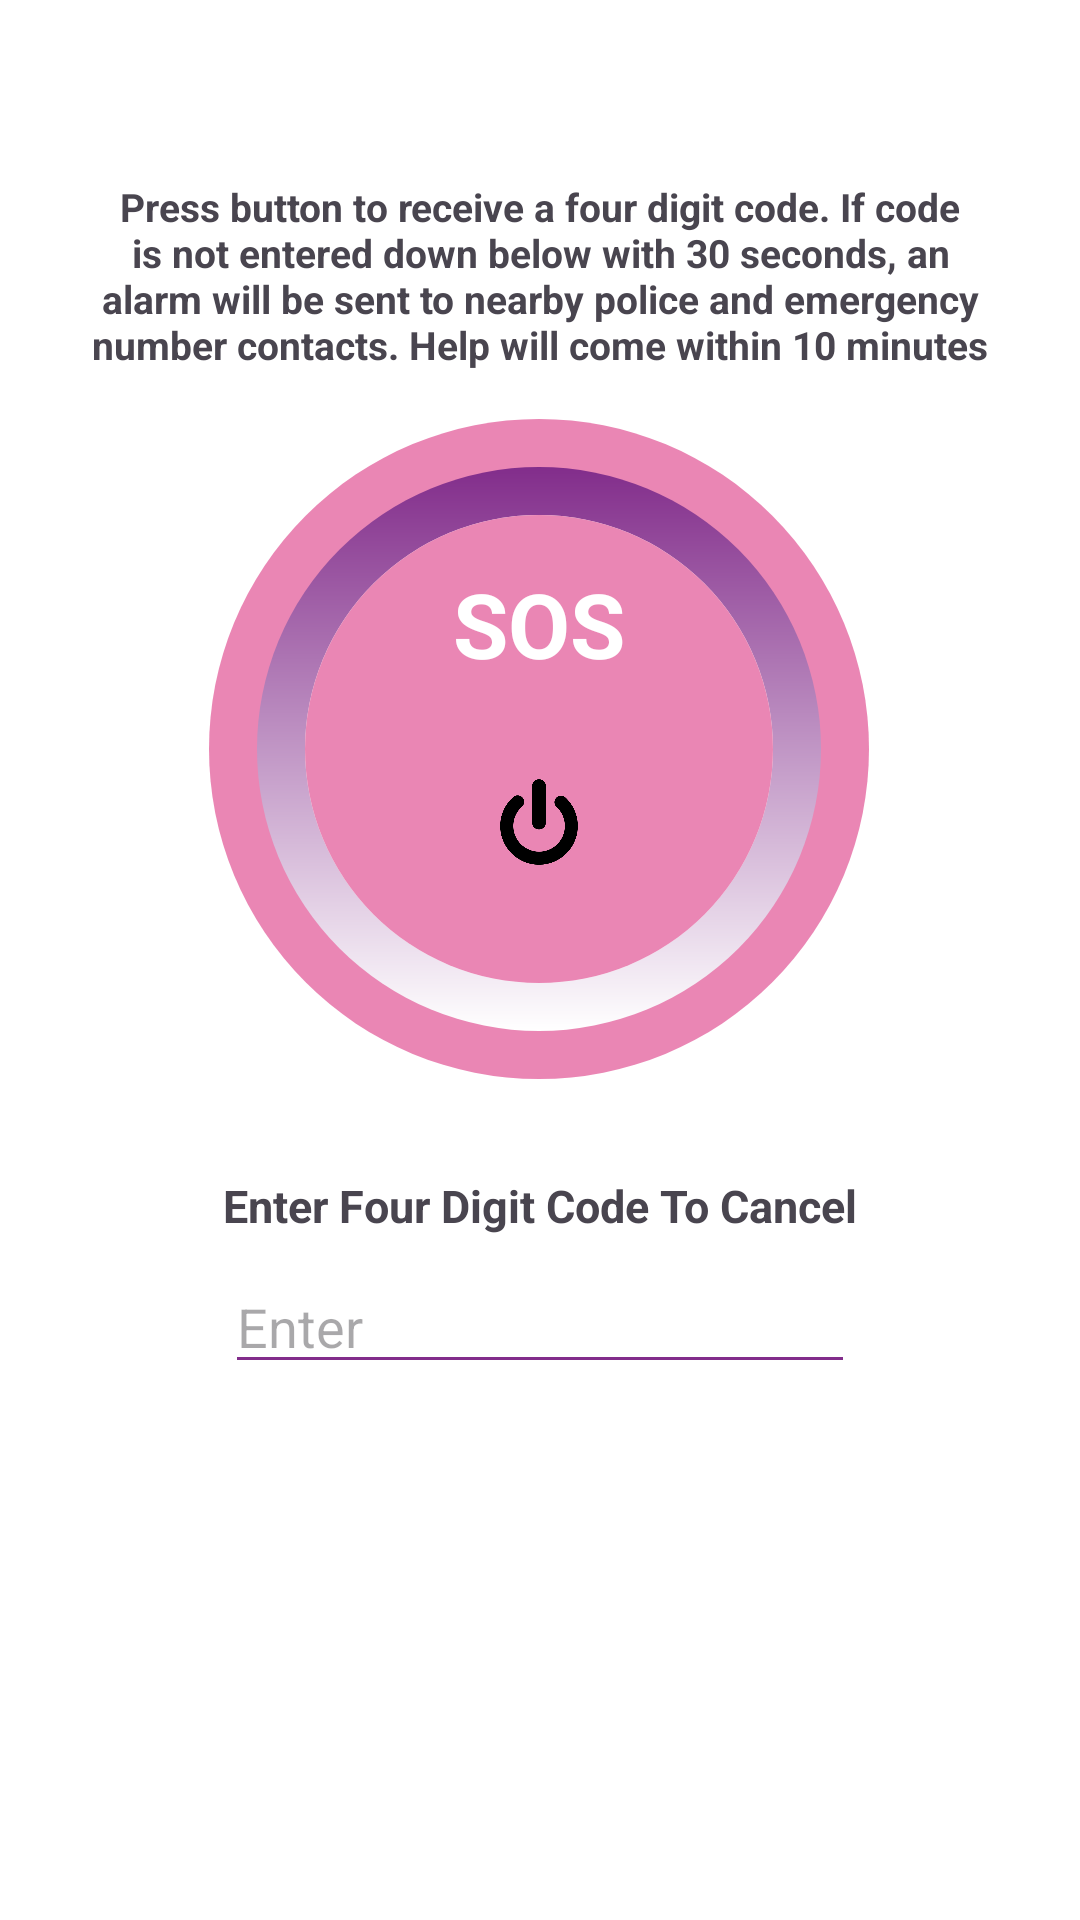

Icons on this 1080*1920 Android screen, each with its box as (x1=x1, y1=y1, x2=x2, y2=y2):
power: (x1=500, y1=779, x2=578, y2=865)
